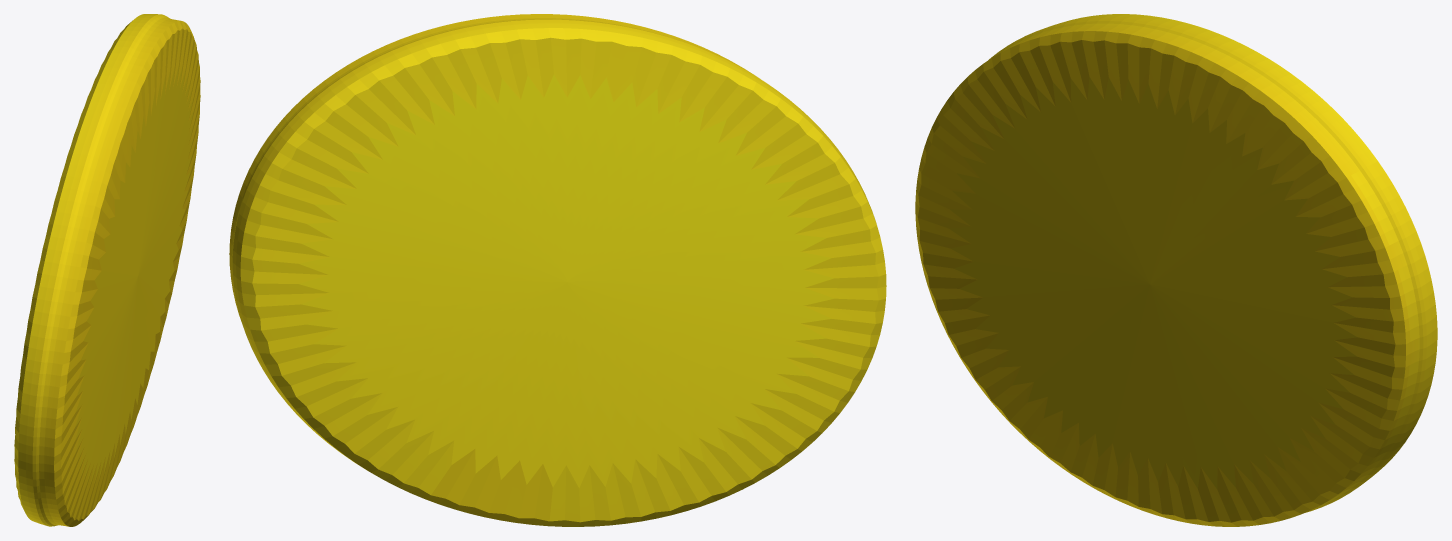
File: coin.fbx
The picture shows the model from 3 angles, left to right: view 1: azimuth 30°, elevation 25°; view 2: azimuth 150°, elevation 25°; view 3: azimuth 270°, elevation 25°; orthographic projection. The views are drawn at different scales.
Visible parts, largest first — view 1: Coin; view 2: Coin; view 3: Coin.
Part boxes in pixels (x1,y1,x2,y2): Coin: (14, 14, 200, 526); Coin: (229, 14, 886, 526); Coin: (915, 14, 1437, 526).
Size of the model in its own units: 2122 by 2320 by 2162.
